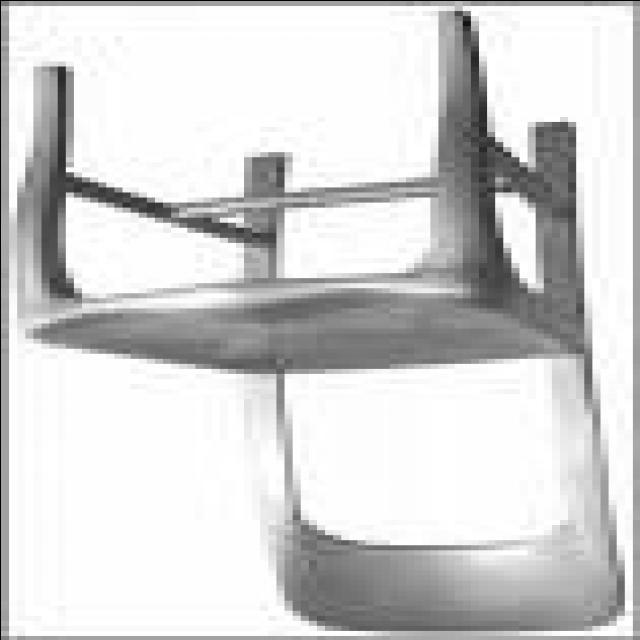chair: (11, 11, 624, 635)
